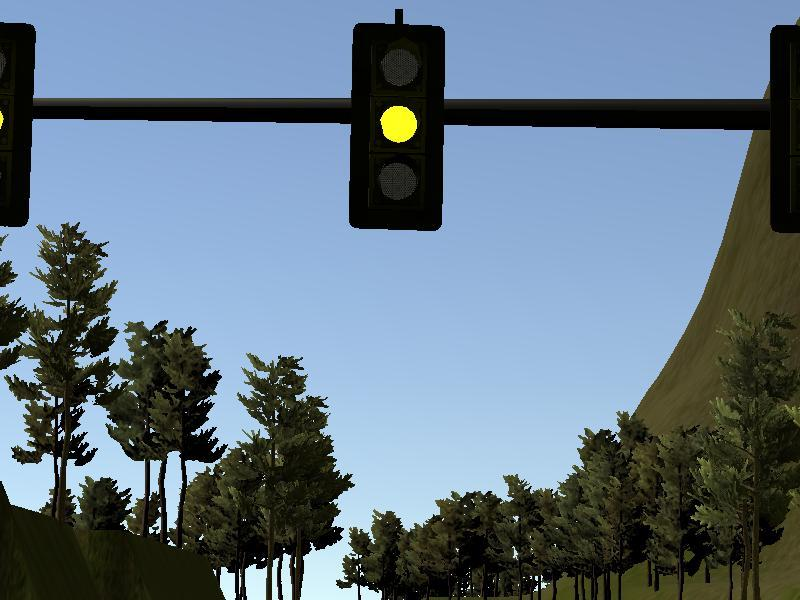Yellow: (351, 24, 445, 230), (1, 25, 36, 226)
